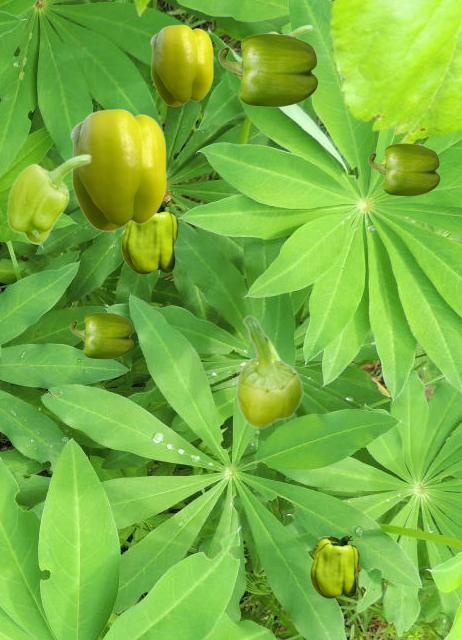bell_pepper: (70, 108, 165, 230), (235, 315, 303, 428), (6, 153, 91, 243), (218, 33, 317, 106), (150, 24, 212, 105), (121, 201, 183, 273), (368, 143, 439, 195), (310, 536, 363, 597), (70, 312, 132, 358), (268, 24, 312, 37)
